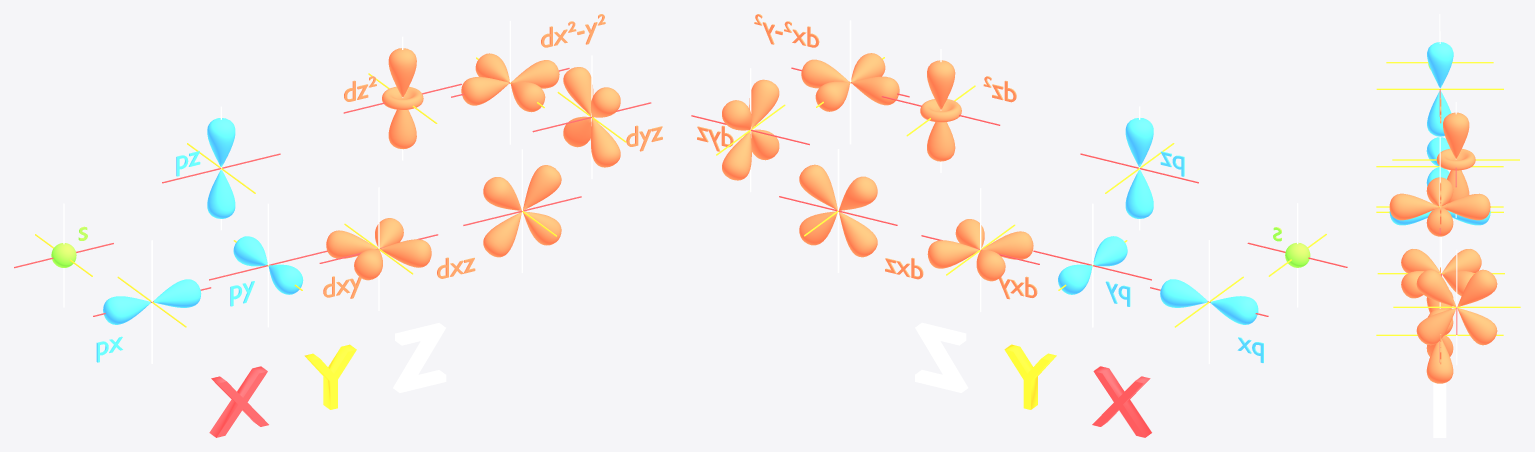
The picture shows the model from 3 angles, left to right: view 1: azimuth 30°, elevation 25°; view 2: azimuth 150°, elevation 25°; view 3: azimuth 270°, elevation 25°; orthographic projection. The views are drawn at different scales.
Visible parts, largest first — view 1: Text, s.006, s.008, s.003, s.007, dz2, s.004, s.002, s.005, s.001; view 2: Text, s.006, s.008, s.003, s.007, dz2, s.004, s.002, s.005, s.001; view 3: s.008, s.007, s.003, dz2, s.004, s.006, s.002, Text, s.005, s.001.
Part boxes in pixels (<box>): Text: <box>209,323,446,437</box>; s.006: <box>463,149,581,272</box>; s.008: <box>532,55,651,178</box>; s.003: <box>319,187,438,310</box>; s.007: <box>451,21,569,144</box>; dz2: <box>343,36,461,160</box>; s.004: <box>162,106,280,230</box>; s.002: <box>93,240,211,363</box>; s.005: <box>209,203,327,327</box>; s.001: <box>14,203,113,307</box>; Text: <box>915,322,1151,437</box>; s.006: <box>779,149,897,272</box>; s.008: <box>691,68,809,192</box>; s.003: <box>921,188,1039,311</box>; s.007: <box>791,20,909,144</box>; dz2: <box>881,49,1000,172</box>; s.004: <box>1080,106,1198,230</box>; s.002: <box>1150,240,1268,363</box>; s.005: <box>1033,203,1151,327</box>; s.001: <box>1247,203,1347,307</box>; s.008: <box>1393,249,1520,365</box>; s.007: <box>1376,149,1503,264</box>; s.003: <box>1377,236,1504,298</box>; dz2: <box>1392,102,1519,217</box>; s.004: <box>1376,31,1503,147</box>; s.006: <box>1376,291,1503,393</box>; s.002: <box>1376,137,1503,186</box>; Text: <box>1433,382,1446,437</box>; s.005: <box>1376,210,1503,269</box>; s.001: <box>1386,14,1493,90</box>.
Size of the model in its own units: 8.57 by 4.34 by 1.77.
